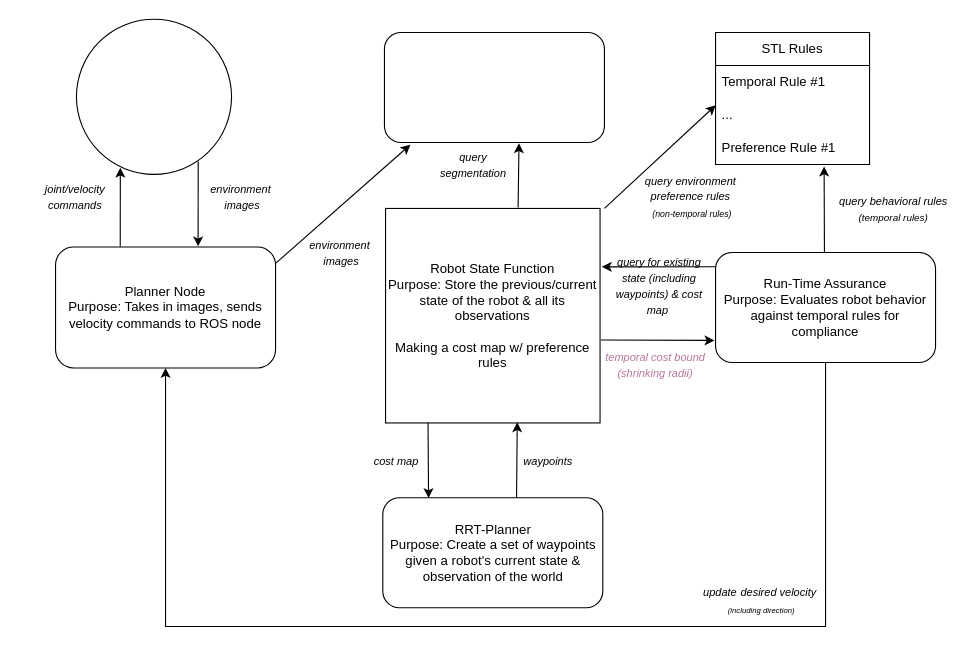
Image size: 968x655. Some labels were removed from this diagram. The centre of each missing label's shape, as x and y in pixels:
Perception Module Purpose: Segmentation & Depth Estimation Stores Point Cloud: (x=493, y=86)
Robot/ROS Purpose: Moving the robot with commands, takes photos of environment: (x=153, y=96)
